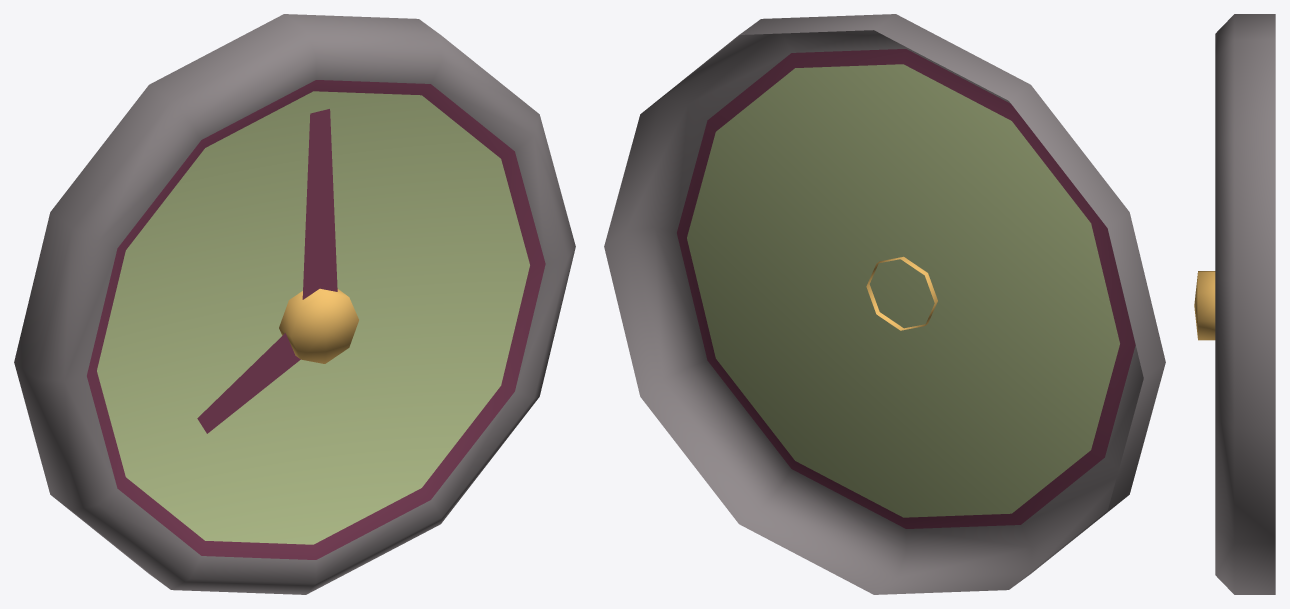
Rendered from Clock.fbx.
The picture shows the model from 3 angles, left to right: view 1: azimuth 30°, elevation 25°; view 2: azimuth 150°, elevation 25°; view 3: azimuth 270°, elevation 25°; orthographic projection. The views are drawn at different scales.
Visible parts, largest first — view 1: Clock; view 2: Clock; view 3: Clock.
Part boxes in pixels (bbox=[...]): Clock: bbox=[14, 14, 575, 594]; Clock: bbox=[604, 14, 1165, 594]; Clock: bbox=[1194, 14, 1275, 594].
Bounding box in the file's own units: 43.66 × 43.66 × 6.1.
